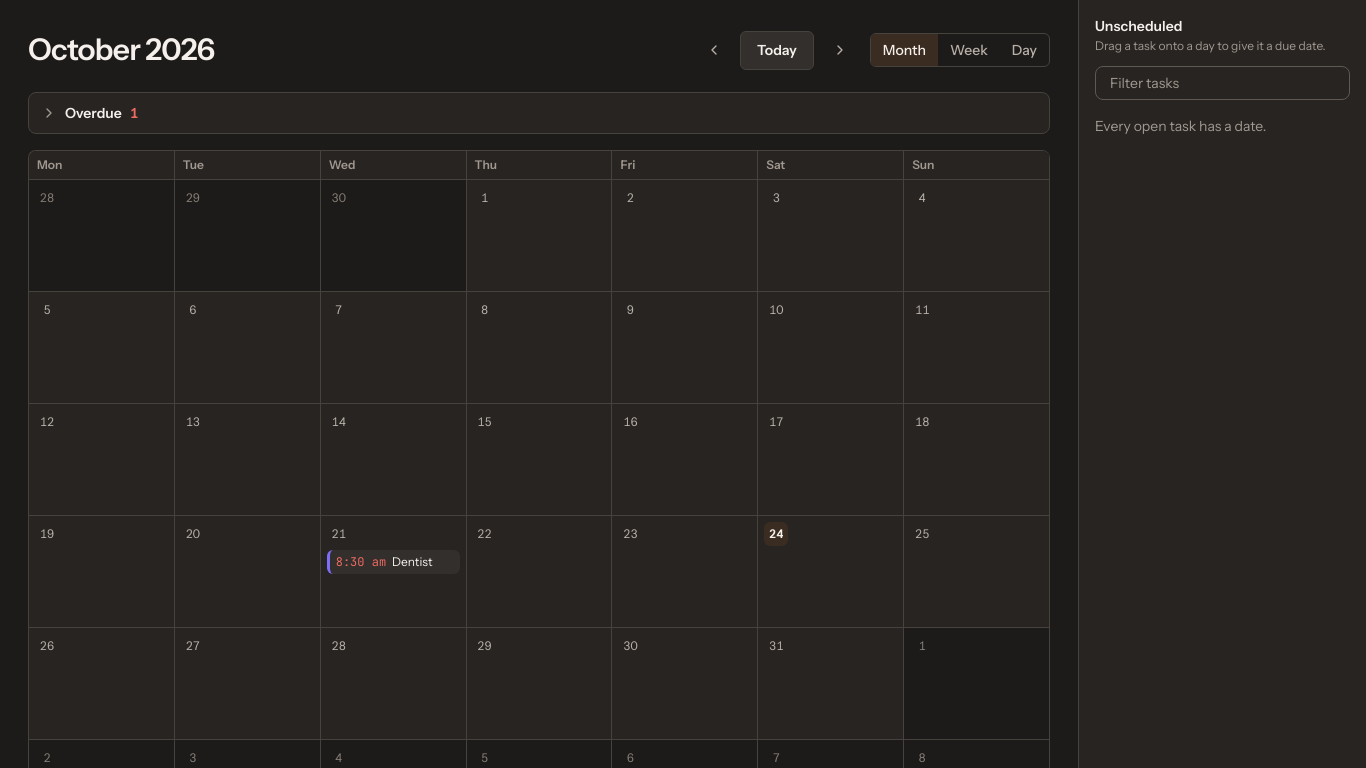
CalendarView: opening tasks and errors › clicking a task opens the task panel
The width and height of the screenshot is (1366, 768).
Step 1. Click the button "8:30 am Dentist" → (393, 562), box x1=327 y1=550 x2=460 y2=574
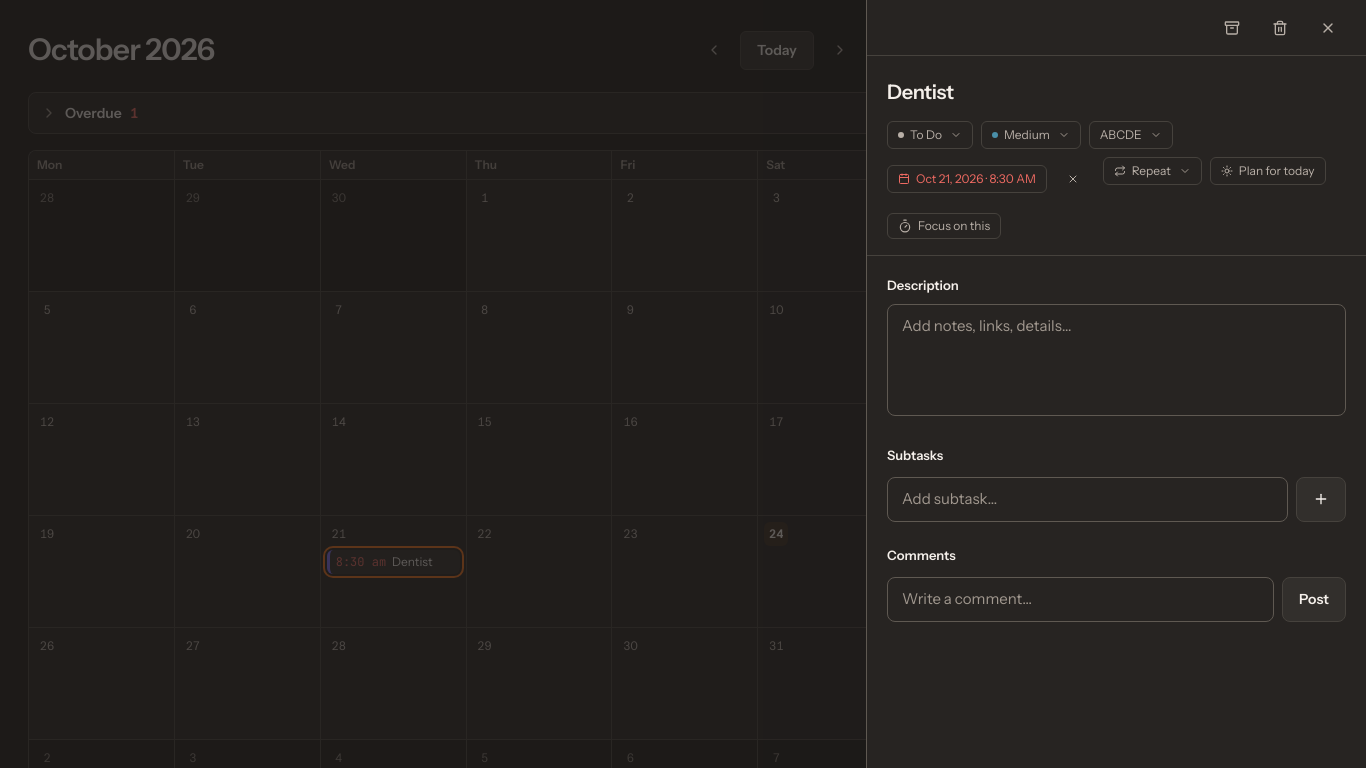
Now the dialog named "Task details" is shown, box x1=866 y1=0 x2=1365 y2=767
Now the field named "Task title" holds "Dentist", box x1=887 y1=80 x2=1346 y2=105
